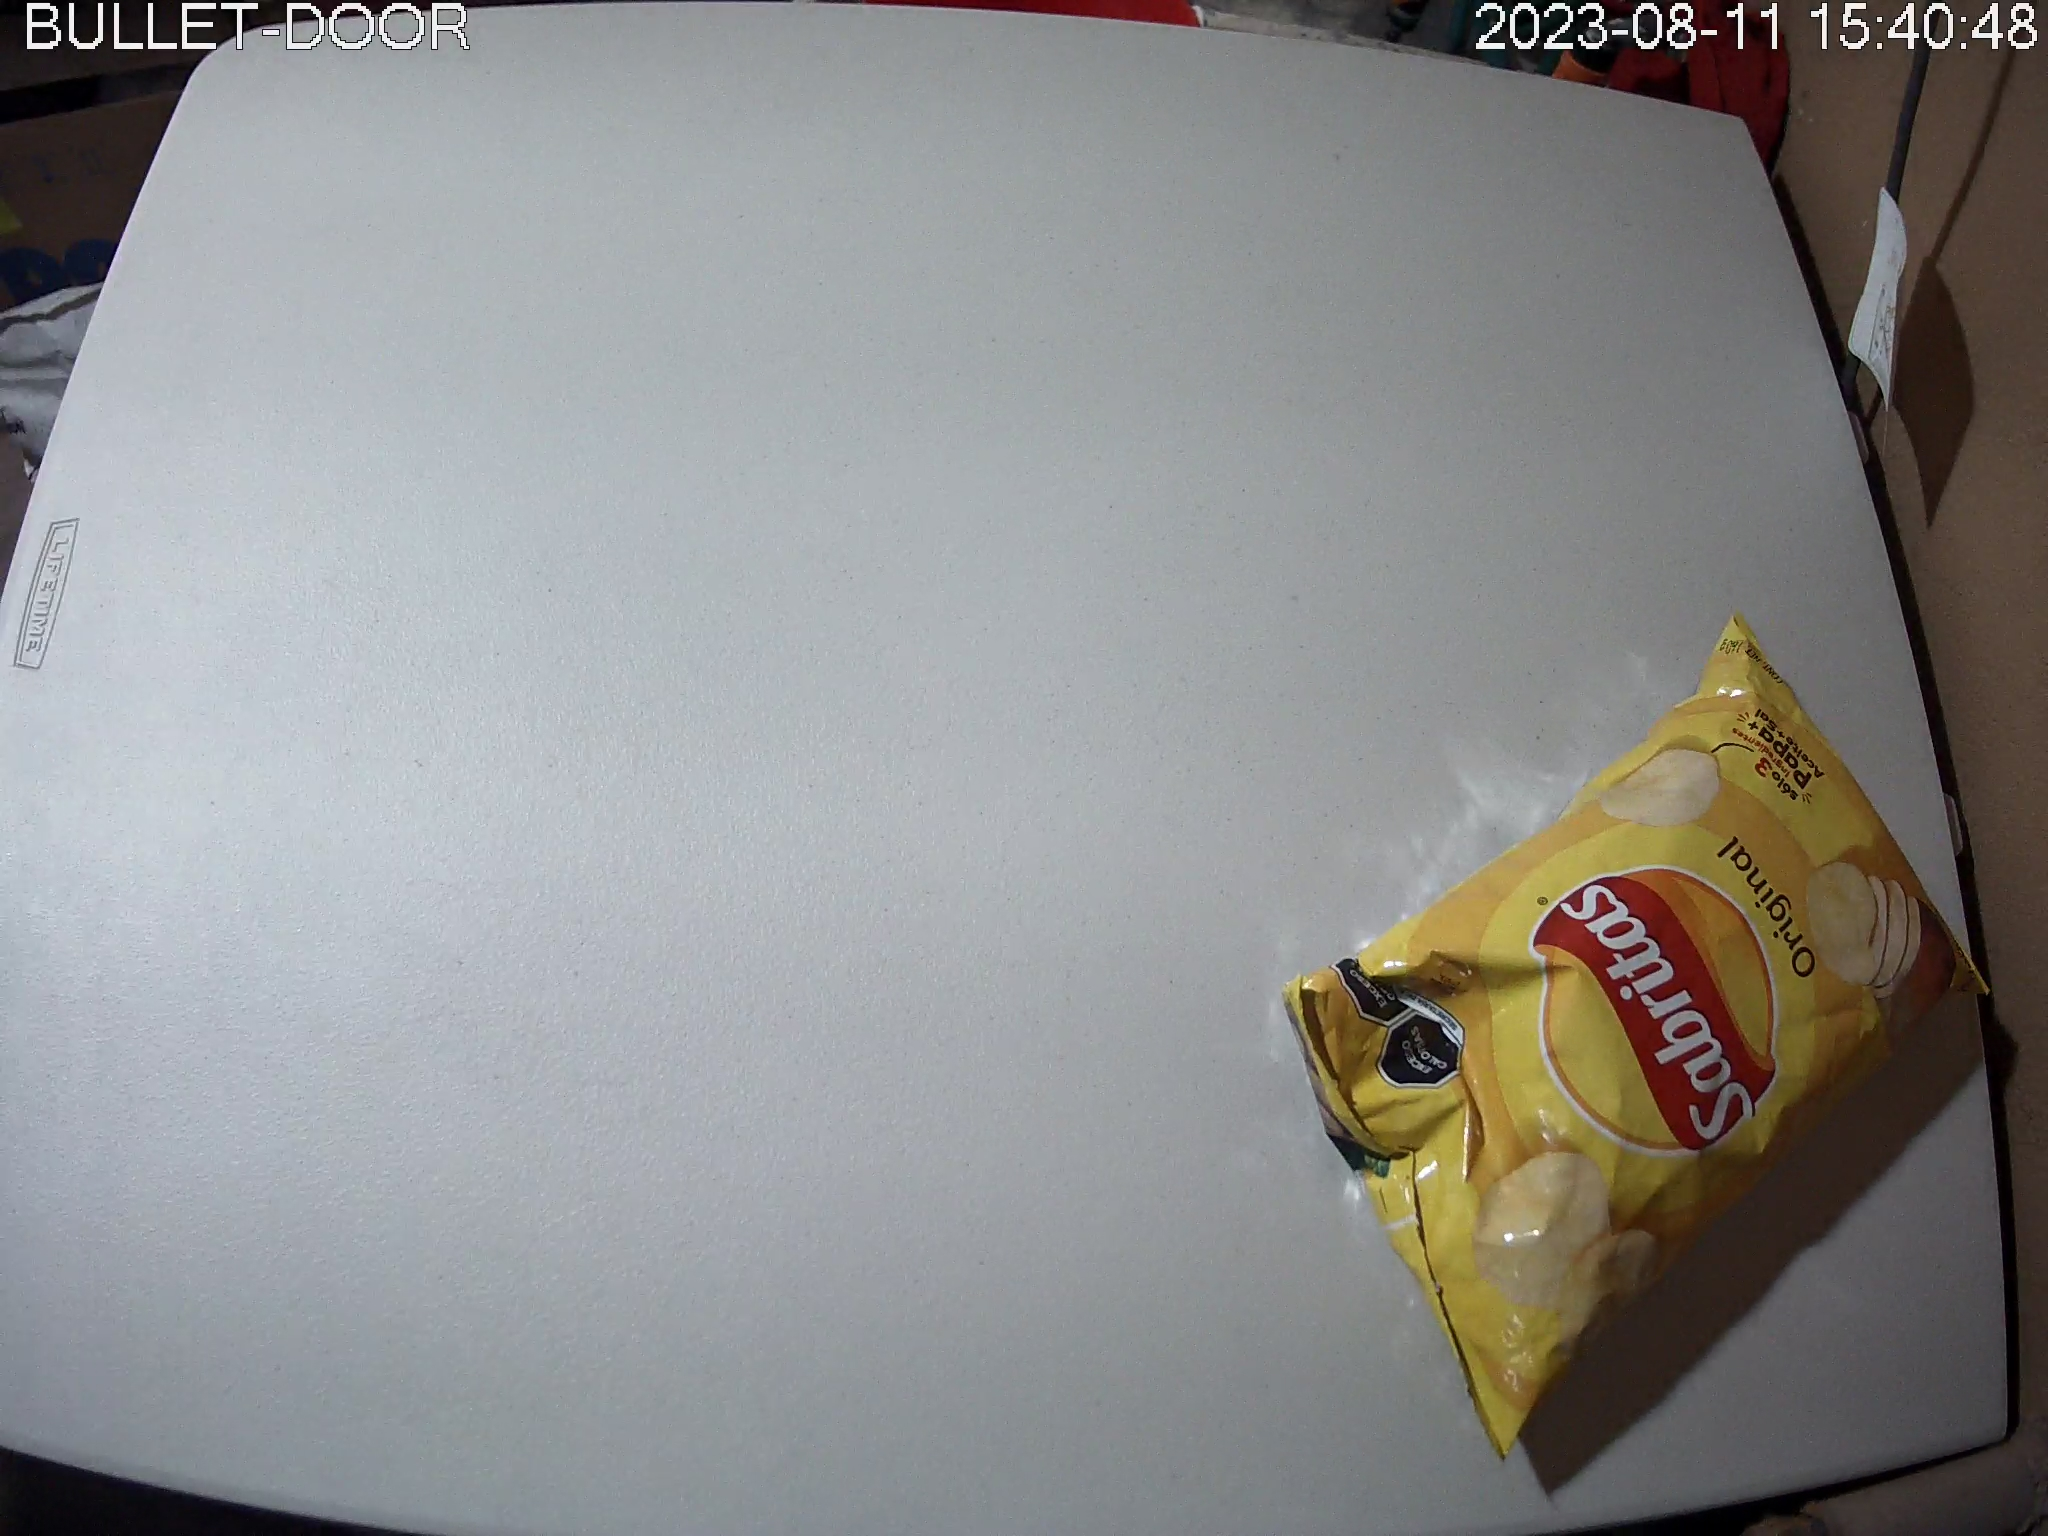Sabritas_160_F: (1280, 611, 1992, 1465)
